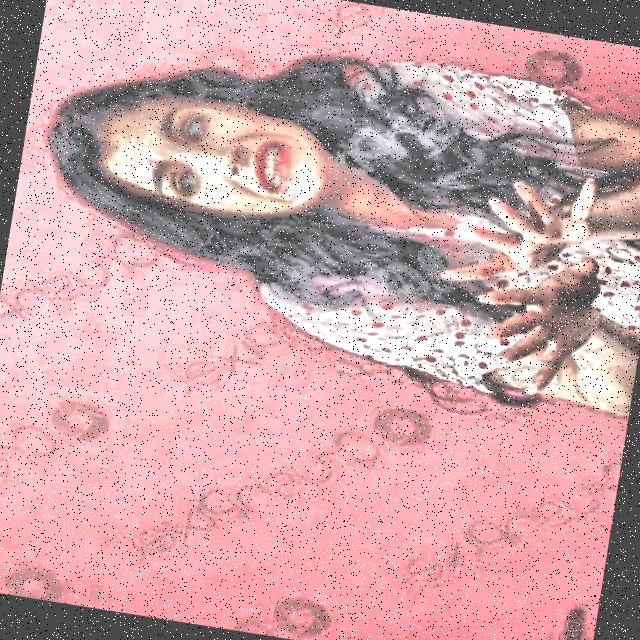fear: (25, 39, 387, 268)
